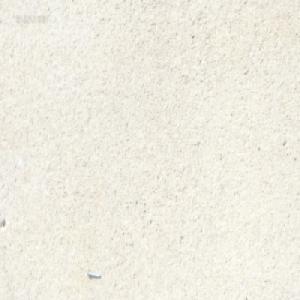Nail: (86, 268, 101, 278)
